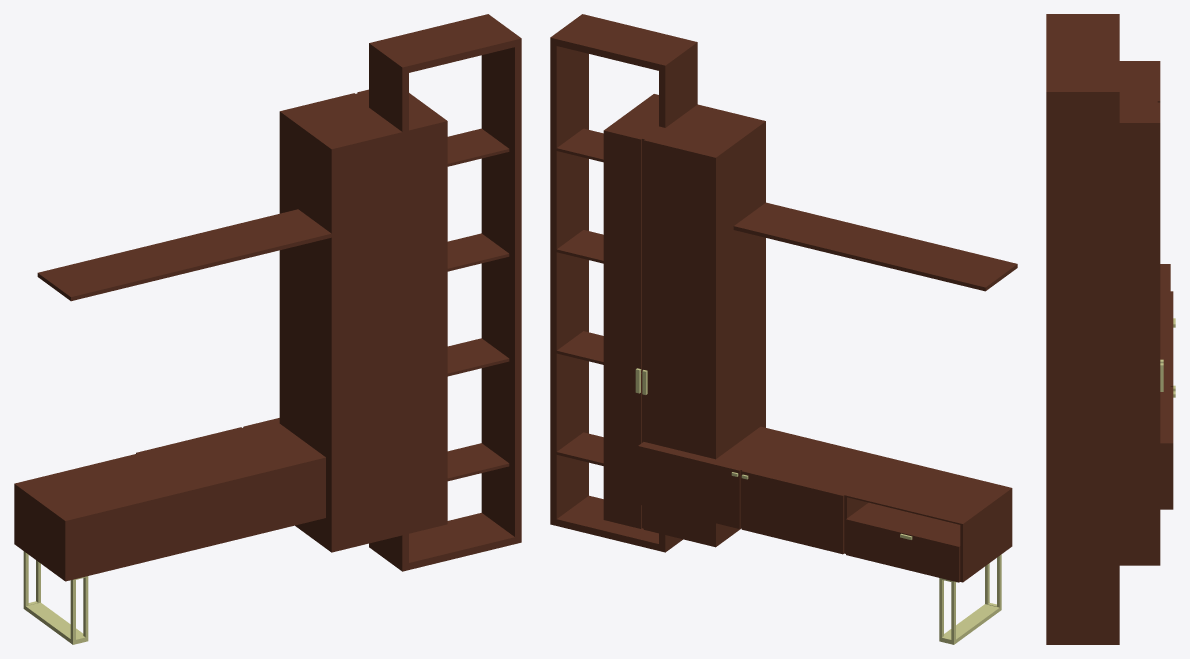
File: SHELF.fbx
3 renders of one model, left to right at view 1: azimuth 30°, elevation 25°; view 2: azimuth 150°, elevation 25°; view 3: azimuth 270°, elevation 25°, orthographic. The views are drawn at different scales.
Visible parts, largest first — view 1: Generic Models 10 Generic Models 10 [942375].001; view 2: Generic Models 10 Generic Models 10 [942375].001; view 3: Generic Models 10 Generic Models 10 [942375].001.
Boxes of the visible parts, <box> form: Generic Models 10 Generic Models 10 [942375].001: <box>14,14,521,644</box>; Generic Models 10 Generic Models 10 [942375].001: <box>550,14,1017,644</box>; Generic Models 10 Generic Models 10 [942375].001: <box>1046,14,1175,644</box>.
Size of the model in its own units: 234 by 250 by 53.03.
